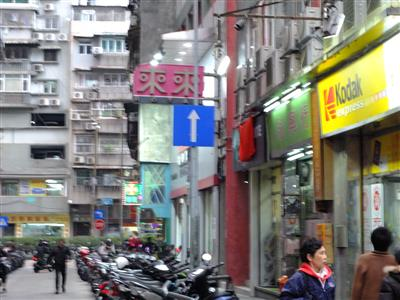oneway: (170, 101, 219, 149)
